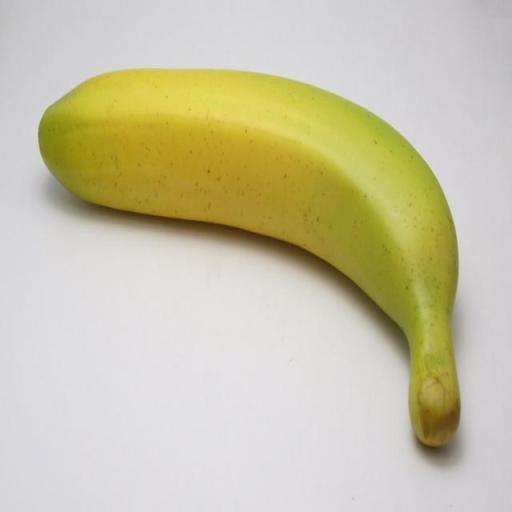fruit: (38, 69, 458, 444)
